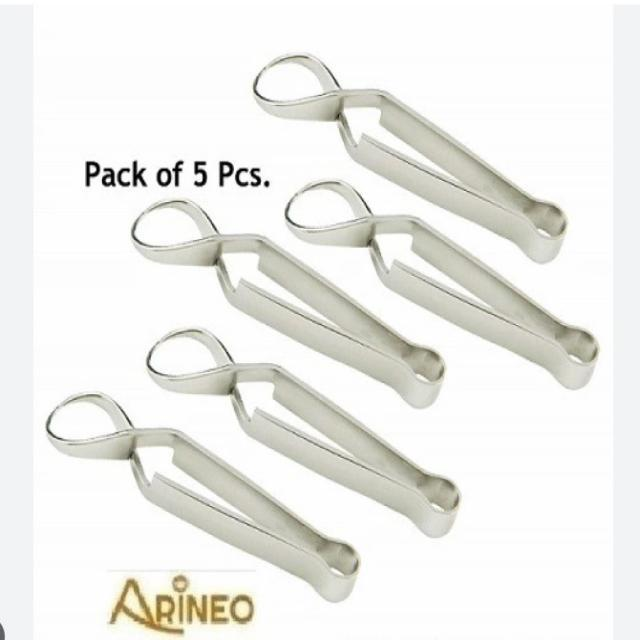Doyen Cross Action Towel Clamp: (247, 39, 574, 264), (32, 387, 359, 605), (135, 321, 462, 537), (284, 171, 598, 393), (132, 194, 448, 412)
